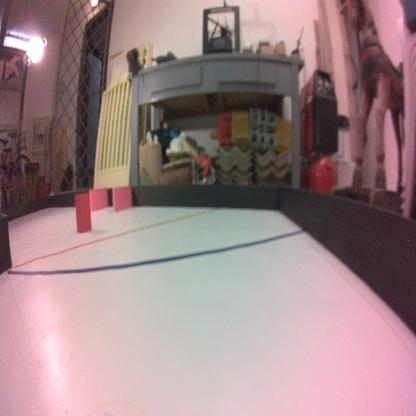magenta: (89, 185, 110, 213), (111, 183, 131, 212)
red: (74, 191, 92, 233)
